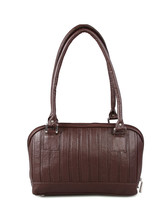bag: (18, 24, 147, 196)
